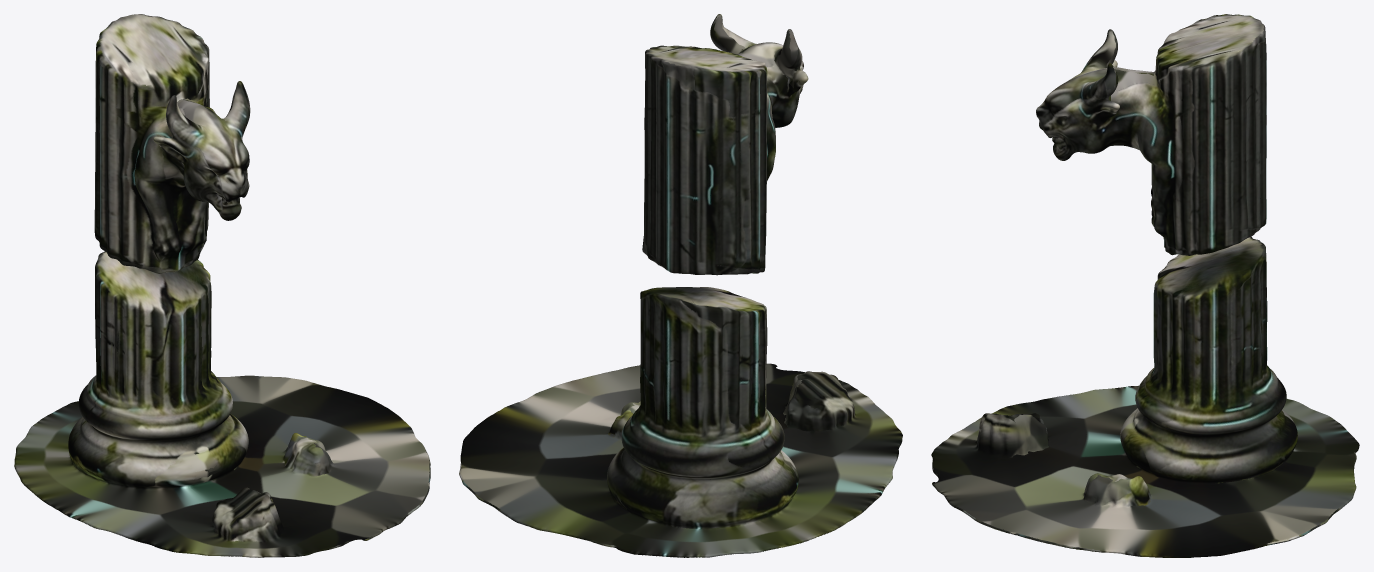
File: struct_gargoyle_column.glb
3 renders of one model, left to right at view 1: azimuth 30°, elevation 25°; view 2: azimuth 150°, elevation 25°; view 3: azimuth 270°, elevation 25°, orthographic. The views are drawn at different scales.
Parts seen in each view (by area): view 1: geometry_0; view 2: geometry_0; view 3: geometry_0.
Boxes of the visible parts, x1,y1,x2,y2 form: geometry_0: (14,14,430,557); geometry_0: (459,14,902,557); geometry_0: (931,14,1359,557).
Size of the model in its own units: 6.58 by 7.5 by 6.9.
1 material, 1 textured.
